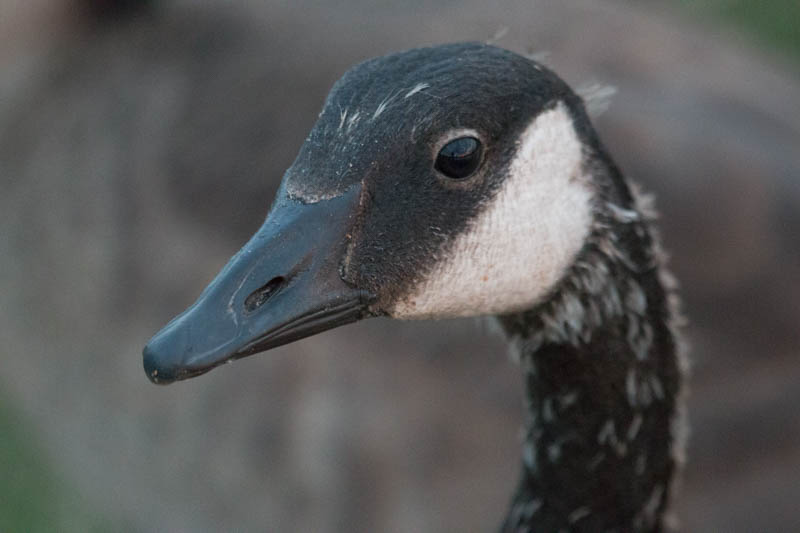goose-head: (140, 41, 615, 388)
